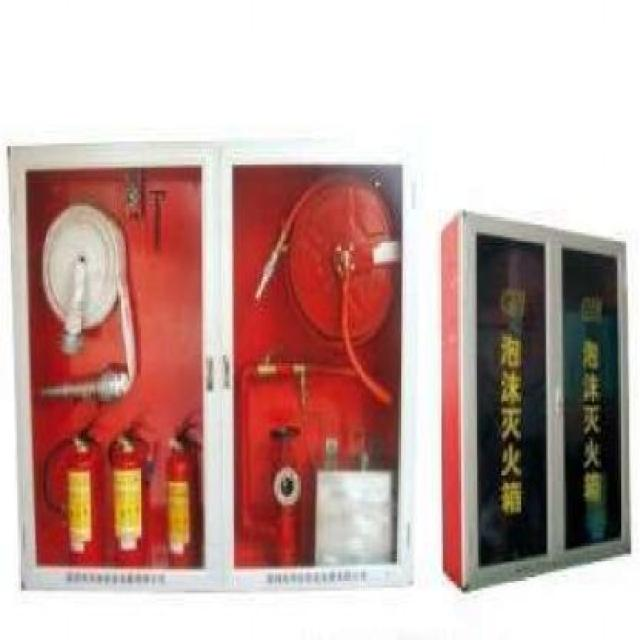firehydrant: (5, 132, 426, 597), (437, 203, 635, 601)
